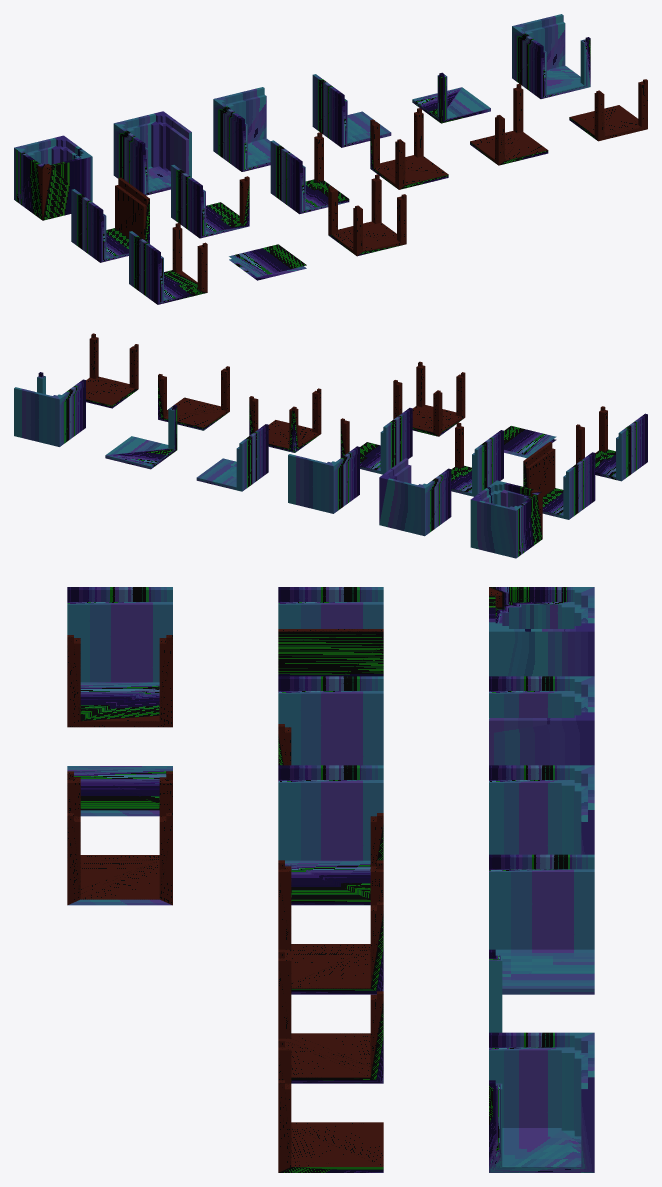
Rendered from tile_holes_01.fbx.
3 views of the same model, one above another, from view 1: azimuth 30°, elevation 25°; view 2: azimuth 150°, elevation 25°; view 3: azimuth 270°, elevation 25° (orthographic). The views are drawn at different scales.
Parts seen in each view (by area): view 1: hole_01, hole_02, hole_06, hole_07, hole_03, hole_13, hole_08, hole_09, hole_15, hole_04, hole_10, hole_11 (+3 smaller); view 2: hole_01, hole_02, hole_06, hole_03, hole_07, hole_13, hole_15, hole_09, hole_08, hole_04, hole_10, hole_11 (+3 smaller); view 3: hole_06, hole_13, hole_04, hole_09, hole_01, hole_02, hole_03, hole_07, hole_08, hole_15, hole_10, hole_11 (+3 smaller).
Part boxes in pixels (x1,y1,x2,y2): hole_01: (14, 135, 92, 220); hole_02: (113, 111, 191, 195); hole_06: (512, 14, 590, 98); hole_07: (71, 177, 149, 262); hole_03: (213, 87, 270, 171); hole_13: (129, 223, 207, 304); hole_08: (171, 165, 249, 238); hole_09: (270, 132, 349, 214); hole_15: (328, 174, 406, 256); hole_04: (312, 74, 391, 147); hole_10: (370, 108, 448, 189); hole_11: (470, 83, 548, 165); hole_01: (470, 480, 542, 558); hole_02: (379, 458, 451, 536); hole_06: (14, 372, 85, 446); hole_03: (288, 446, 359, 513); hole_07: (523, 442, 595, 519); hole_13: (576, 406, 647, 481); hole_15: (393, 361, 465, 436); hole_09: (340, 408, 412, 474); hole_08: (451, 422, 503, 496); hole_04: (196, 424, 268, 491); hole_10: (249, 388, 321, 452); hole_11: (158, 366, 229, 430); hole_06: (489, 1032, 594, 1172); hole_13: (67, 587, 172, 727); hole_04: (489, 854, 594, 994); hole_09: (278, 765, 383, 905); hole_01: (489, 587, 594, 676); hole_02: (489, 676, 594, 765); hole_03: (489, 765, 594, 854); hole_07: (278, 587, 383, 676); hole_08: (278, 676, 383, 765); hole_15: (67, 771, 172, 905); hole_10: (278, 860, 383, 994); hole_11: (278, 949, 383, 1083).
Size of the model in its own units: 11 by 5 by 1.
